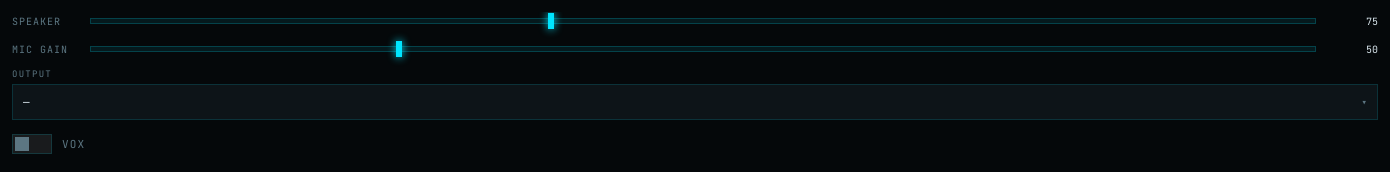
Scenario: TestAudioControlsDevices › renders output device select when outputs are provided
Expected: the text "Output" is shown, [12,68,52,80]
// Open the dropdown to verify the device label is in the listbox.
Click the button named "Output": (27, 102) [12,84,1378,120]
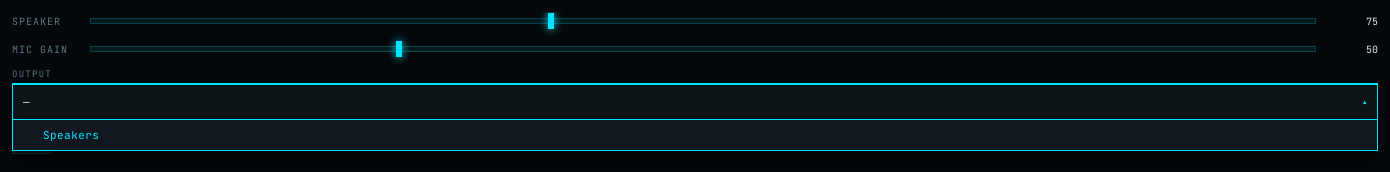
Expected: the option "Speakers" is shown, [13,120,1377,150]
